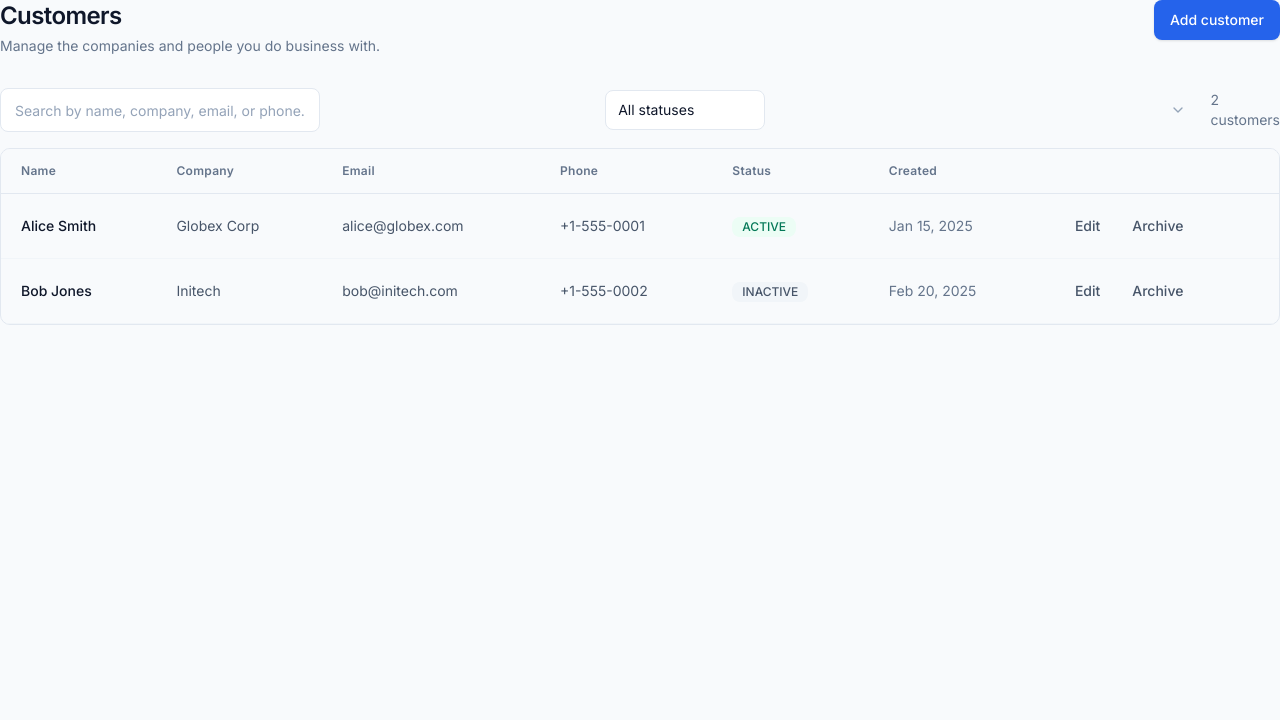
Test case: CustomersPage › Add customer button opens create modal
The image size is (1280, 720).
Step 1. Click the button "Add customer" → (1217, 20), box [1154, 0, 1279, 40]
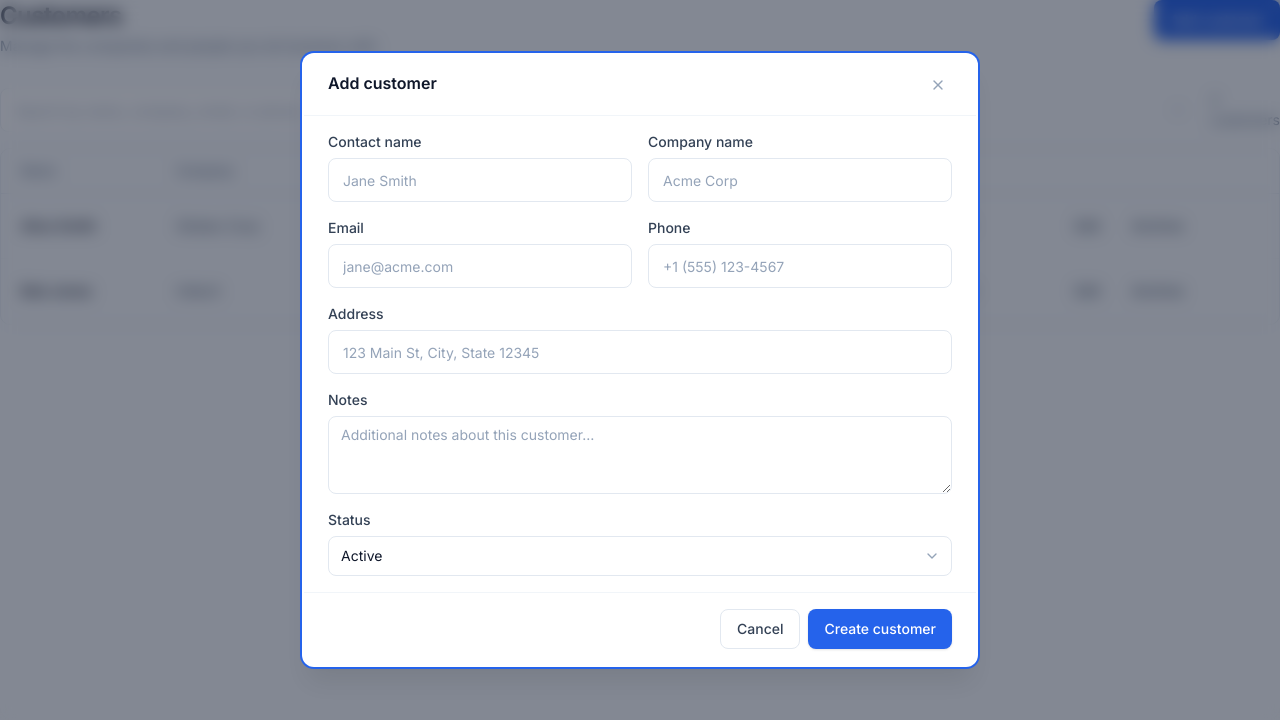
Expected: the dialog is shown, [304, 55, 976, 665]
Expected: the heading "Add customer" is shown, [328, 71, 437, 95]
